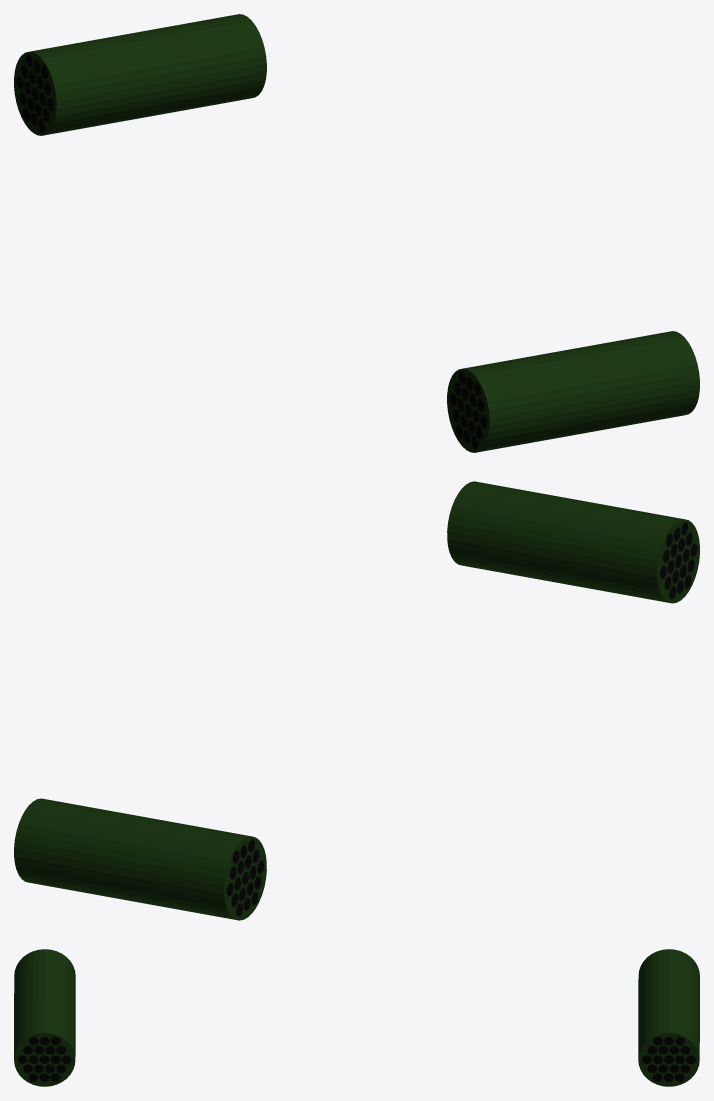
3 views of the same model, one above another, from view 1: azimuth 30°, elevation 25°; view 2: azimuth 150°, elevation 25°; view 3: azimuth 270°, elevation 25° (orthographic). The views are drawn at different scales.
Parts seen in each view (by area): view 1: 円柱.004, 円柱.006; view 2: 円柱.004, 円柱.006; view 3: 円柱.004, 円柱.006.
Part boxes in pixels (x1,y1,x2,y2): 円柱.004: (447, 331, 699, 452); 円柱.006: (14, 14, 266, 135); 円柱.004: (447, 481, 699, 603); 円柱.006: (14, 798, 266, 920); 円柱.004: (14, 949, 75, 1086); 円柱.006: (638, 949, 699, 1086).
Bounding box in the file's own units: 1.47 × 0.5916 × 5.63.
1 material, 1 textured.
